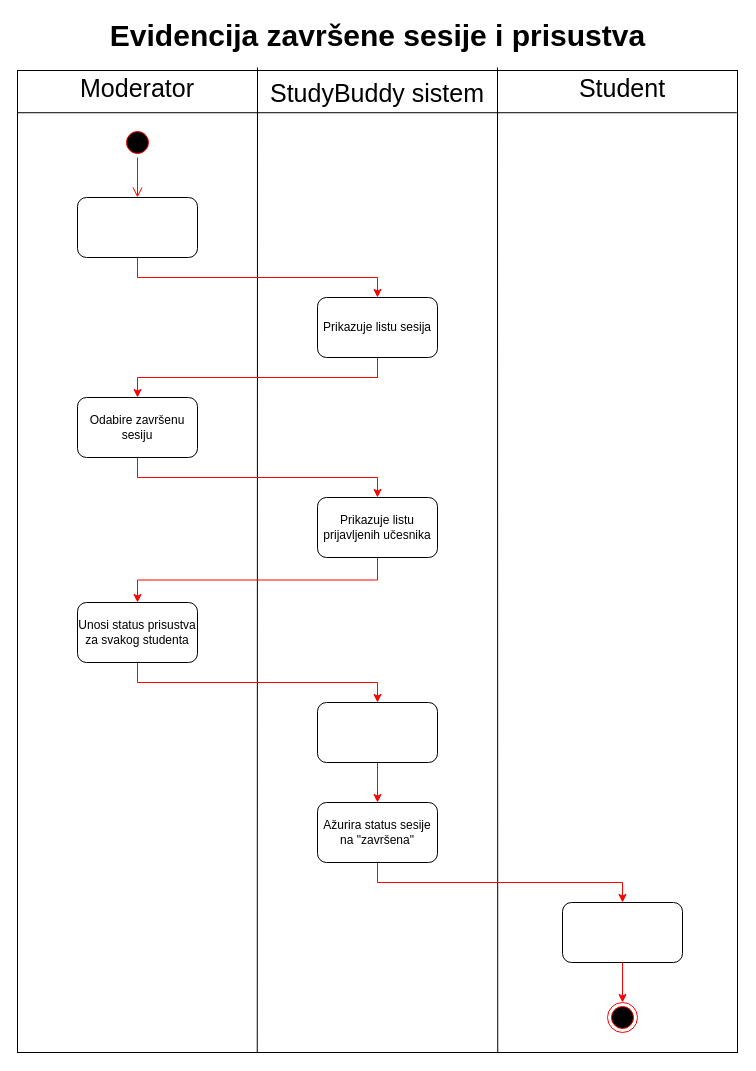
The diagram is 756 pixels wide and 1071 high, and some of its shapes have lost their labels. Here are the shapes that lost their labels. From the top down, the centre of each, then its label:
pixel 137 227: Pregledava sesije
pixel 377 732: Evidentira prisustvo
pixel 622 932: Može pregledati svoj status prisustva
